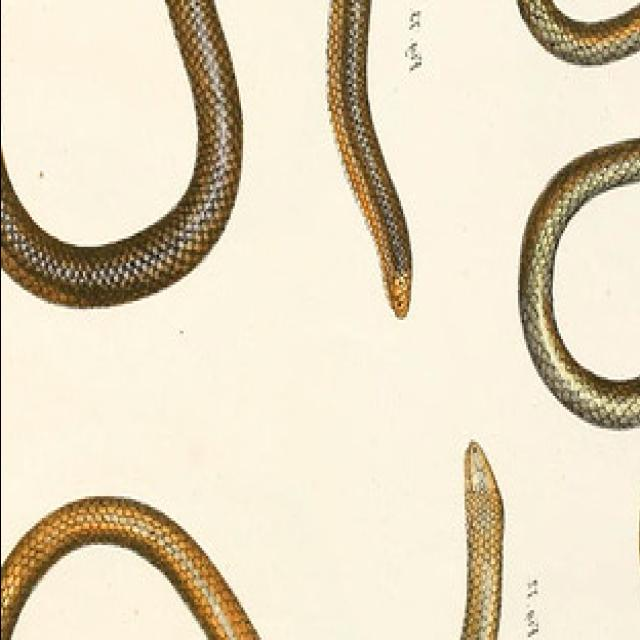Snake: (0, 1, 417, 323), (1, 442, 508, 640), (507, 0, 640, 640)
